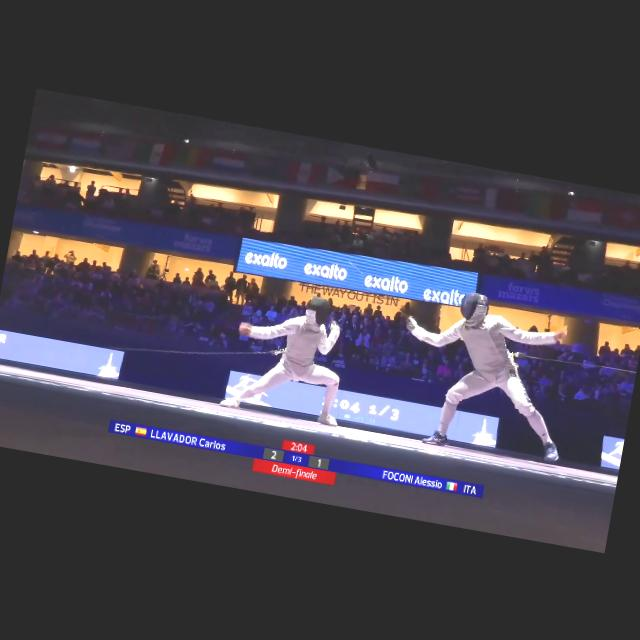blade: (337, 257, 424, 331)
